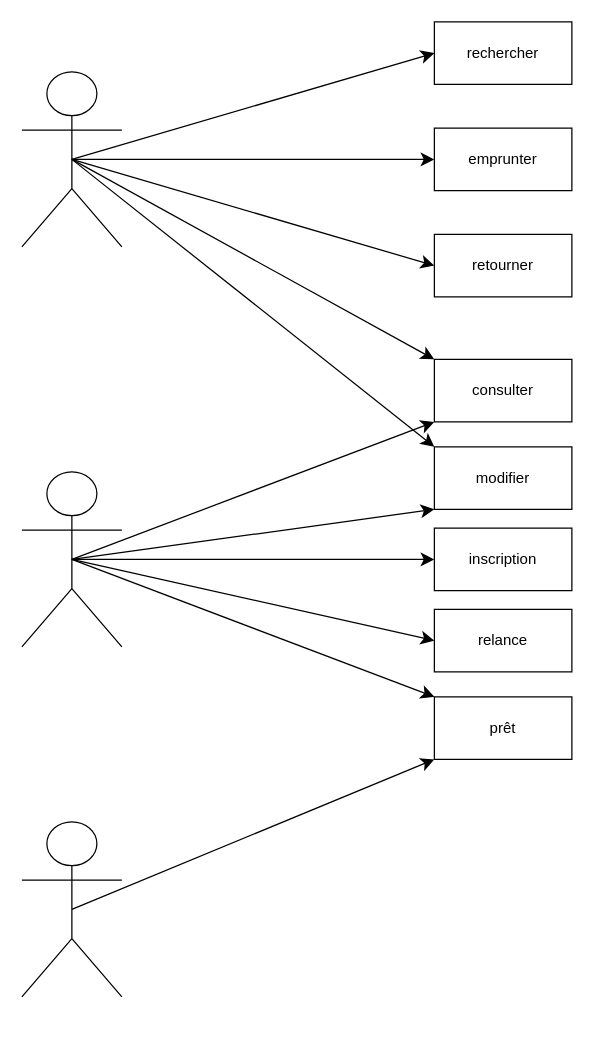
The diagram is 594 pixels wide and 1064 high, and some of its shapes have lost their labels. The centre of each missing label's shape, as x and y in pixels:
"abonné" goes at point 71,159.
"bénévole" goes at point 71,909.
"employé" goes at point 71,559.
